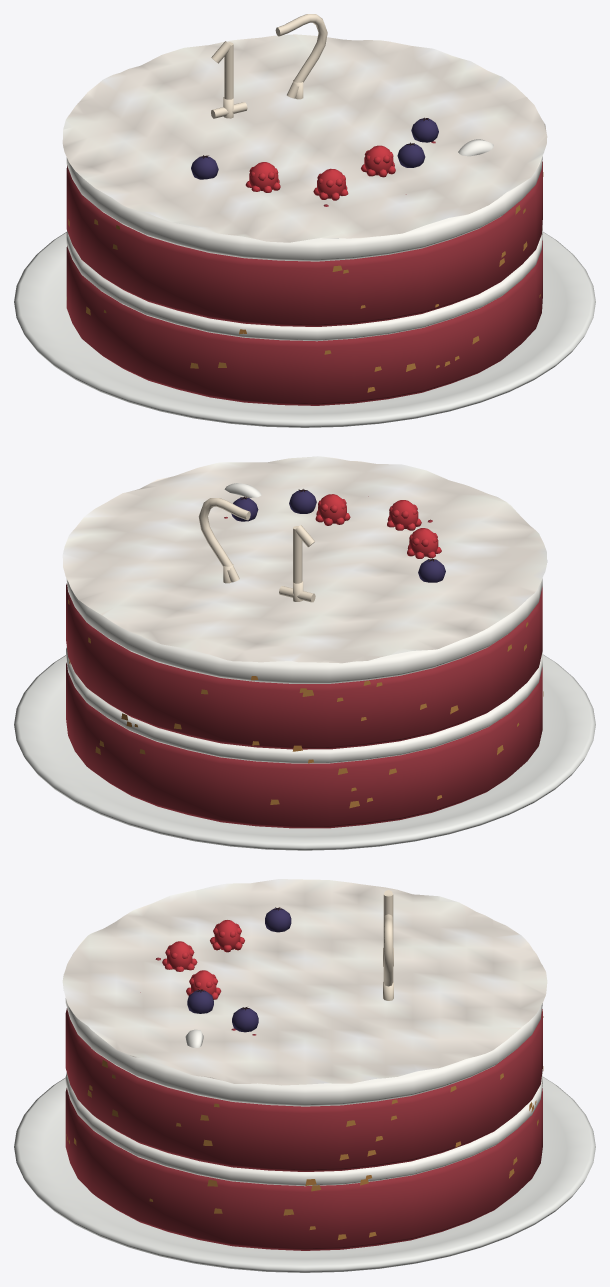
File: cake-17.6ce4bee7f714.glb
3 renders of one model, top to bottom at view 1: azimuth 30°, elevation 25°; view 2: azimuth 150°, elevation 25°; view 3: azimuth 270°, elevation 25°, orthographic.
Visible parts, largest first — view 1: Irregular_hand_spread_food_surface, PART_FOOD_ROOT_MAT_red_velvet, Clean_porcelain_plate, PART_FOOD_ROOT_MAT_cream, PART_FOOD_ROOT_MAT_number_wax, PART_FOOD_ROOT_MAT_strawberry, PART_FOOD_ROOT_MAT_berry, Edible_side_crumb_and_spatula_marks; view 2: Irregular_hand_spread_food_surface, PART_FOOD_ROOT_MAT_red_velvet, Clean_porcelain_plate, PART_FOOD_ROOT_MAT_cream, PART_FOOD_ROOT_MAT_number_wax, PART_FOOD_ROOT_MAT_strawberry, PART_FOOD_ROOT_MAT_berry, Edible_side_crumb_and_spatula_marks; view 3: Irregular_hand_spread_food_surface, PART_FOOD_ROOT_MAT_red_velvet, Clean_porcelain_plate, PART_FOOD_ROOT_MAT_cream, PART_FOOD_ROOT_MAT_strawberry, PART_FOOD_ROOT_MAT_berry, Edible_side_crumb_and_spatula_marks, PART_FOOD_ROOT_MAT_number_wax.
Boxes of the visible parts, x1,y1,x2,y2 form: Irregular_hand_spread_food_surface: [62, 34, 547, 242]; PART_FOOD_ROOT_MAT_red_velvet: [66, 141, 542, 405]; Clean_porcelain_plate: [14, 232, 595, 427]; PART_FOOD_ROOT_MAT_cream: [66, 139, 542, 341]; PART_FOOD_ROOT_MAT_number_wax: [211, 14, 327, 118]; PART_FOOD_ROOT_MAT_strawberry: [245, 145, 395, 200]; PART_FOOD_ROOT_MAT_berry: [191, 118, 438, 179]; Edible_side_crumb_and_spatula_marks: [66, 172, 543, 392]; Irregular_hand_spread_food_surface: [62, 456, 547, 663]; PART_FOOD_ROOT_MAT_red_velvet: [66, 496, 542, 828]; Clean_porcelain_plate: [14, 654, 595, 850]; PART_FOOD_ROOT_MAT_cream: [66, 483, 542, 763]; PART_FOOD_ROOT_MAT_number_wax: [198, 498, 315, 602]; PART_FOOD_ROOT_MAT_strawberry: [315, 494, 441, 558]; PART_FOOD_ROOT_MAT_berry: [231, 489, 445, 582]; Edible_side_crumb_and_spatula_marks: [68, 599, 543, 808]; Irregular_hand_spread_food_surface: [62, 879, 547, 1085]; PART_FOOD_ROOT_MAT_red_velvet: [65, 957, 542, 1250]; Clean_porcelain_plate: [14, 1077, 595, 1272]; PART_FOOD_ROOT_MAT_cream: [65, 998, 542, 1186]; PART_FOOD_ROOT_MAT_strawberry: [162, 920, 244, 999]; PART_FOOD_ROOT_MAT_berry: [187, 908, 291, 1032]; Edible_side_crumb_and_spatula_marks: [66, 1011, 543, 1239]; PART_FOOD_ROOT_MAT_number_wax: [383, 890, 393, 1000].
Bounding box in the file's own units: 0.1952 × 0.0961 × 0.1952.
